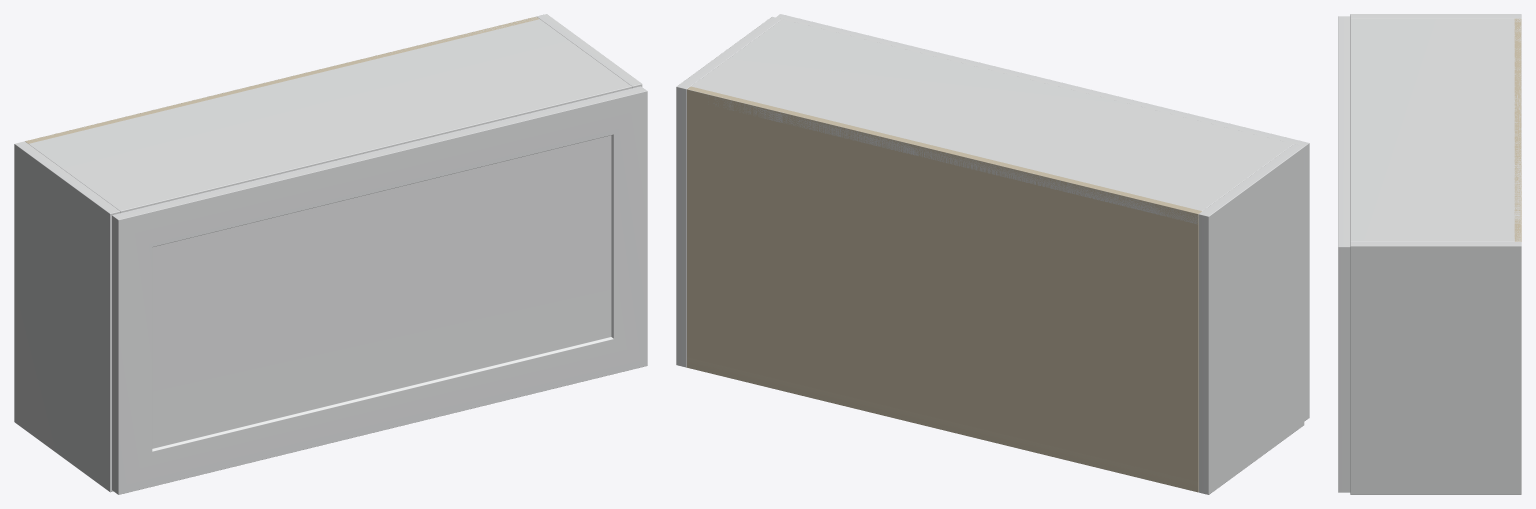
Rendered from PLY-WSS-WSL3618.glb.
3 renders of one model, left to right at view 1: azimuth 30°, elevation 25°; view 2: azimuth 150°, elevation 25°; view 3: azimuth 270°, elevation 25°, orthographic. The views are drawn at different scales.
Parts seen in each view (by area): view 1: Shaker door, Carcass top, Carcass left, Carcass back, Carcass right; view 2: Carcass back, Carcass top, Carcass left, Carcass bottom, Shaker door, Carcass right; view 3: Carcass right, Carcass top, Shaker door, Carcass back, Carcass left.
Boxes of the visible parts, <box> form: Shaker door: <box>112,86,647,494</box>; Carcass top: <box>28,16,631,212</box>; Carcass left: <box>14,141,120,492</box>; Carcass back: <box>25,16,539,143</box>; Carcass right: <box>537,14,642,88</box>; Carcass back: <box>687,86,1201,492</box>; Carcass top: <box>687,19,1293,224</box>; Carcass left: <box>1198,144,1304,494</box>; Carcass bottom: <box>687,357,1198,491</box>; Shaker door: <box>776,14,1309,421</box>; Carcass right: <box>676,16,781,367</box>; Carcass right: <box>1350,241,1521,494</box>; Carcass top: <box>1350,18,1521,241</box>; Shaker door: <box>1338,16,1350,492</box>; Carcass back: <box>1514,18,1521,241</box>; Carcass left: <box>1350,14,1521,18</box>.
Size of the model in its own units: 0.9144 by 0.4572 by 0.3048.
